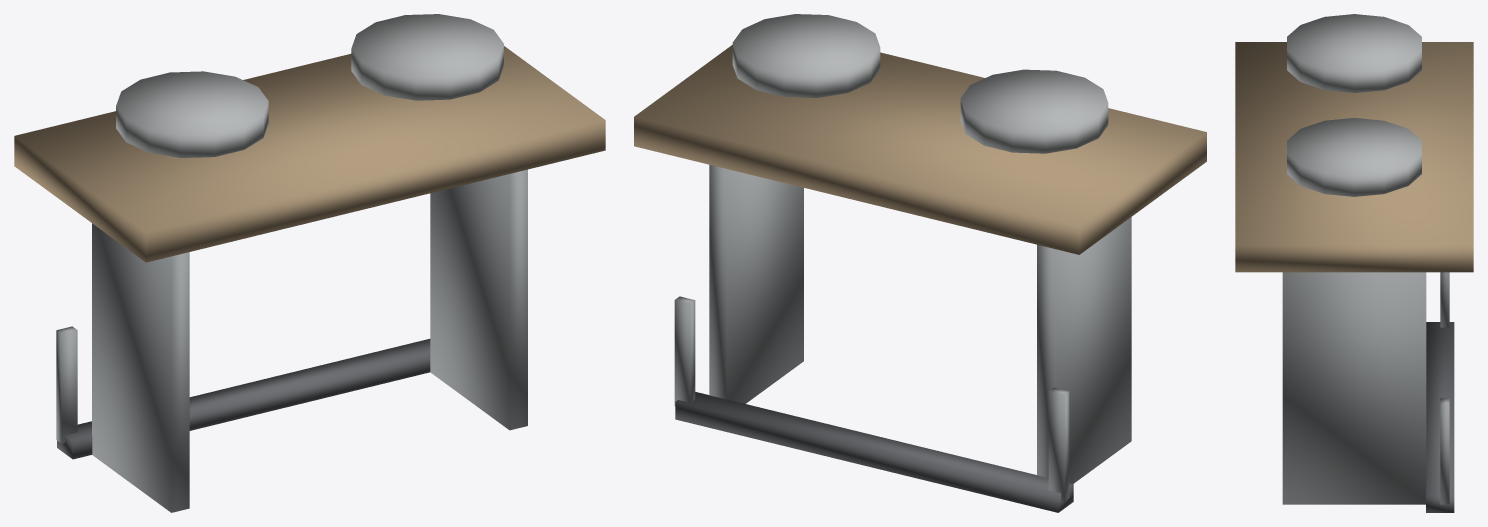
Rendered from projection_rewind_bench__reinforced.glb.
3 views of the same model, side by side, from view 1: azimuth 30°, elevation 25°; view 2: azimuth 150°, elevation 25°; view 3: azimuth 270°, elevation 25° (orthographic). The views are drawn at different scales.
Visible parts, largest first — view 1: world; view 2: world; view 3: world.
Part boxes in pixels (box(x1,y1,x2,y2)): world: box(14, 14, 605, 512); world: box(634, 14, 1206, 512); world: box(1235, 14, 1473, 512).
Size of the model in its own units: 1.29 by 0.9792 by 0.6386.
